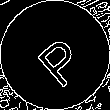P_NW: (24, 23, 86, 87)
